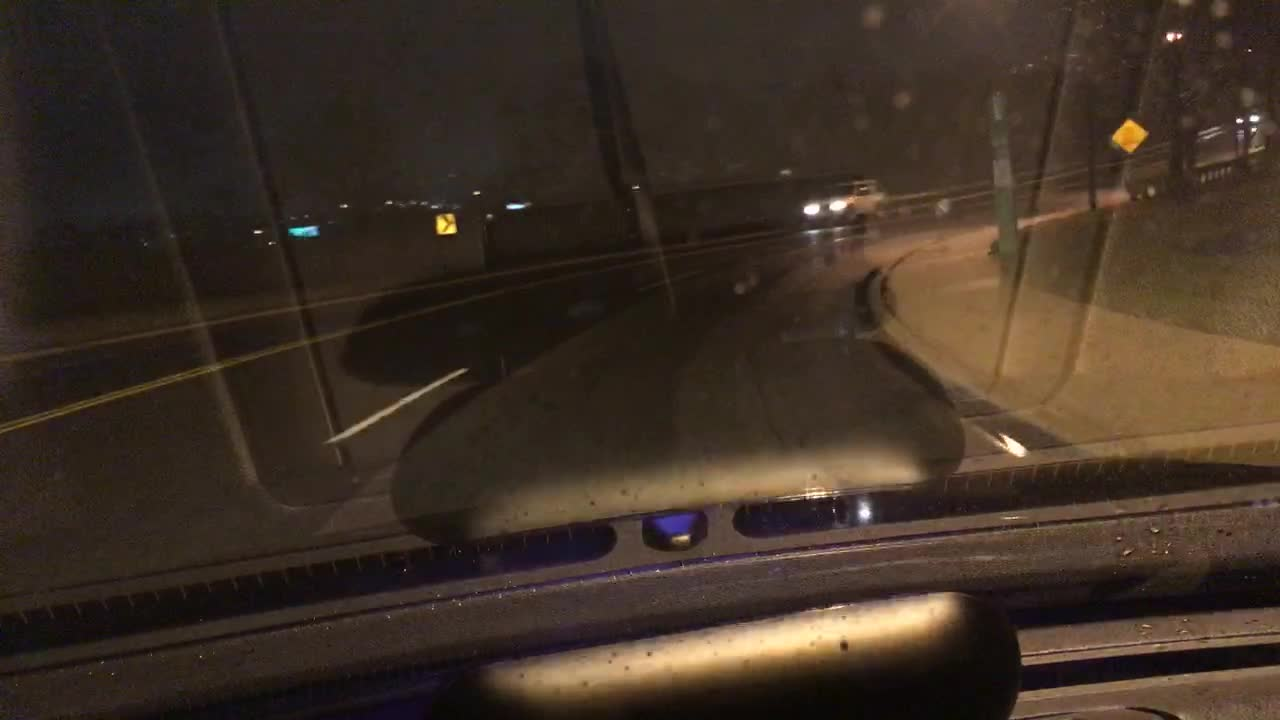car: (802, 177, 890, 223), (1235, 106, 1265, 126)
traffic sign: (1110, 118, 1145, 152), (436, 212, 457, 237)
